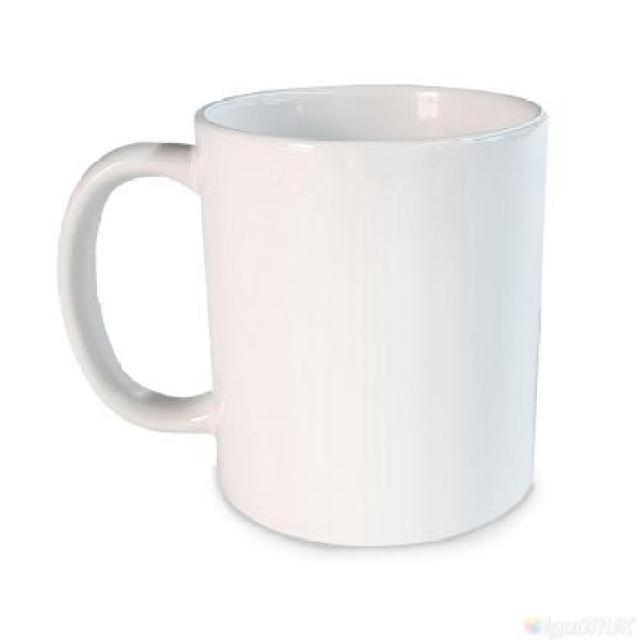cup: (49, 88, 556, 552)
